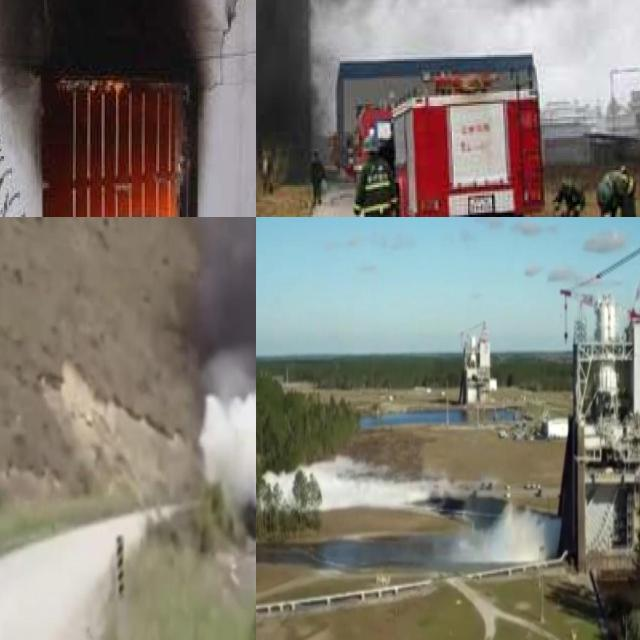smoke: (256, 0, 640, 133), (0, 0, 213, 90), (193, 217, 256, 371), (200, 393, 256, 538), (455, 507, 547, 571)
